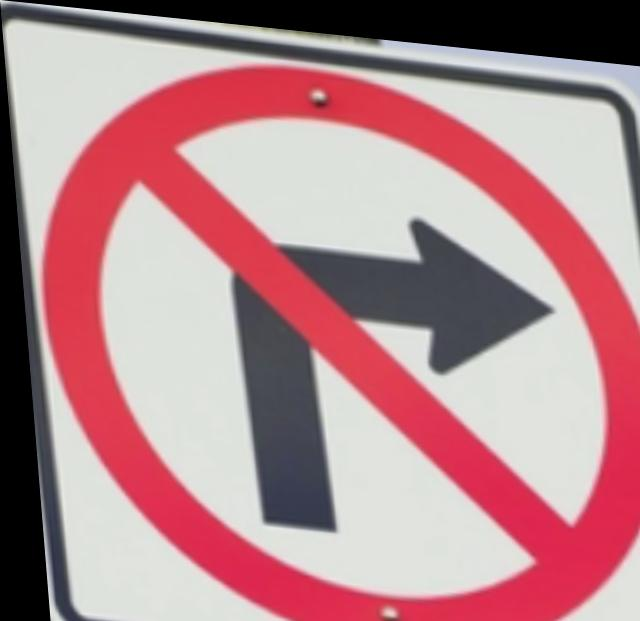not_turn_right: (25, 31, 640, 621)
